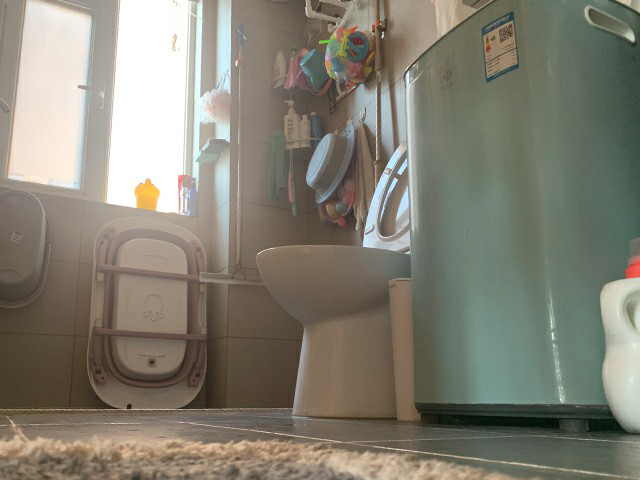carpet: (1, 433, 531, 480)
closestool: (256, 141, 413, 420)
